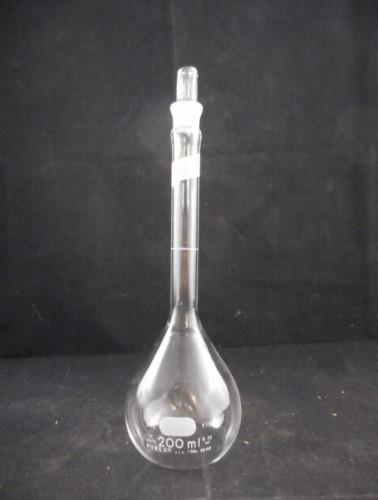Volumetric flask: (116, 64, 247, 467)
